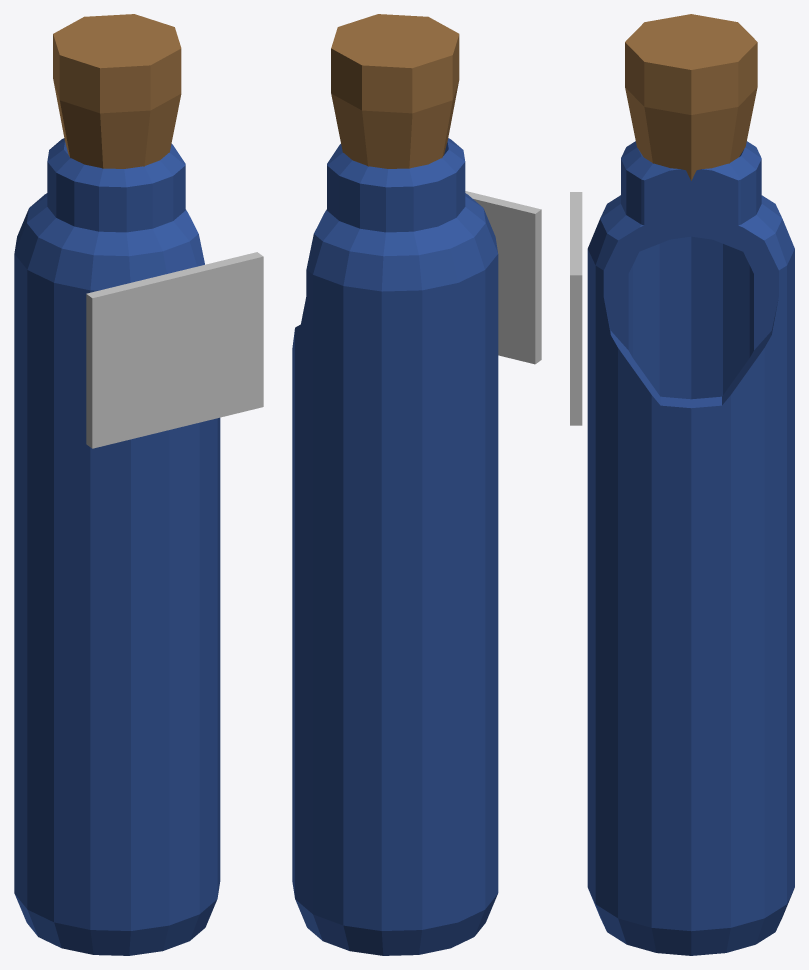
File: ether.obj
The picture shows the model from 3 angles, left to right: view 1: azimuth 30°, elevation 25°; view 2: azimuth 150°, elevation 25°; view 3: azimuth 270°, elevation 25°; orthographic projection.
Parts seen in each view (by area): view 1: A_Flask.001_ether_glass, C_Label.001_ether_label, S_Cork.001_ether_cork; view 2: A_Flask.001_ether_glass, S_Cork.001_ether_cork, C_Label.001_ether_label; view 3: A_Flask.001_ether_glass, S_Cork.001_ether_cork, C_Label.001_ether_label.
Part boxes in pixels (box(x1,y1,x2,y2)): A_Flask.001_ether_glass: box(14, 138, 220, 955); C_Label.001_ether_label: box(86, 252, 263, 448); S_Cork.001_ether_cork: box(53, 14, 181, 168); A_Flask.001_ether_glass: box(292, 138, 498, 955); S_Cork.001_ether_cork: box(331, 14, 459, 168); C_Label.001_ether_label: box(465, 191, 541, 364); A_Flask.001_ether_glass: box(587, 141, 794, 955); S_Cork.001_ether_cork: box(625, 14, 757, 180); C_Label.001_ether_label: box(570, 192, 582, 425).
Size of the model in its own units: 0.5 by 2.33 by 0.5425.
